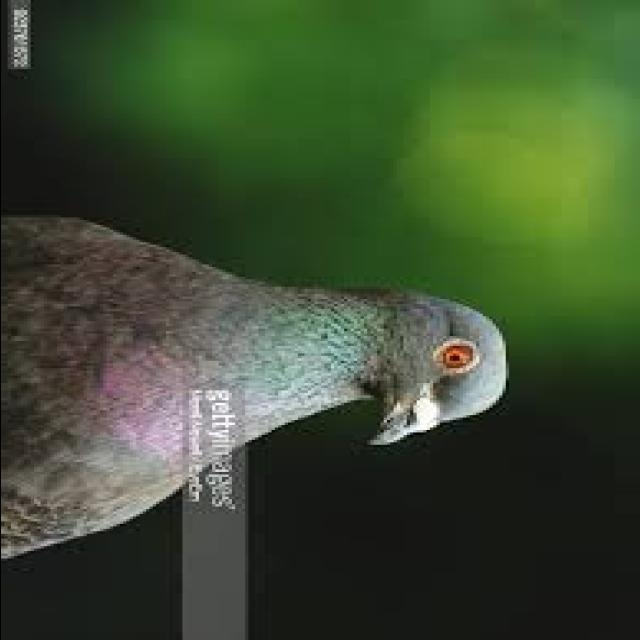pigeon: (1, 210, 524, 571)
